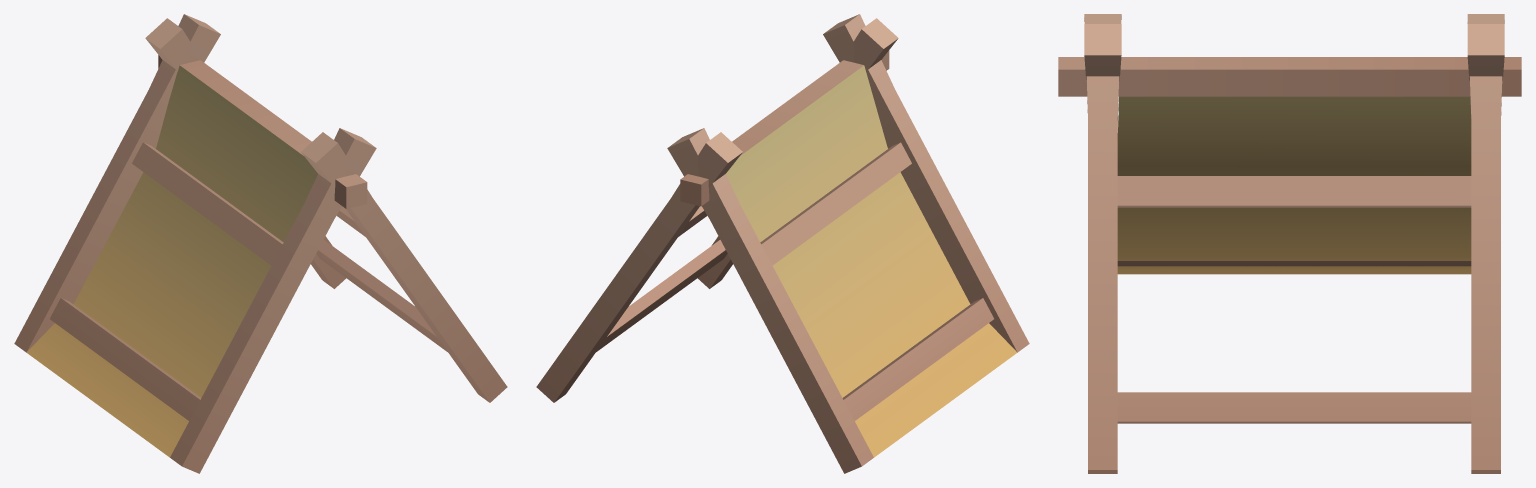
The model's file is tent-canvas-half.glb.
3 renders of one model, left to right at view 1: azimuth 30°, elevation 25°; view 2: azimuth 150°, elevation 25°; view 3: azimuth 270°, elevation 25°, orthographic. The views are drawn at different scales.
Visible parts, largest first — view 1: tent-canvas-half; view 2: tent-canvas-half; view 3: tent-canvas-half.
Part boxes in pixels (<box>): tent-canvas-half: <box>14,14,507,473</box>; tent-canvas-half: <box>536,14,1029,473</box>; tent-canvas-half: <box>1058,14,1521,473</box>.
Bounding box in the file's own units: 0.5608 × 0.4914 × 0.561.
